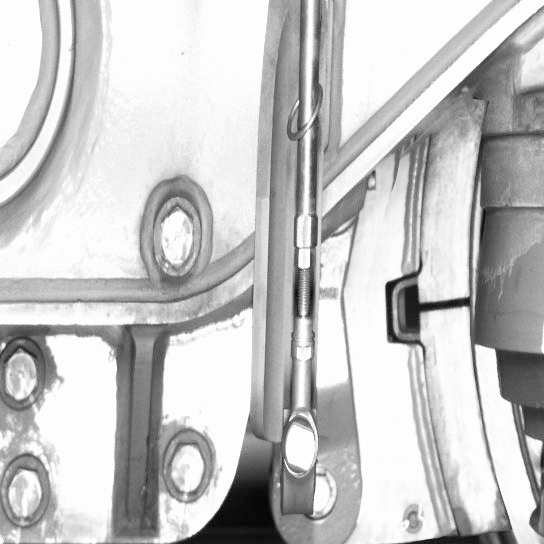ClosedKnifeSwitch: (405, 131, 522, 542)
